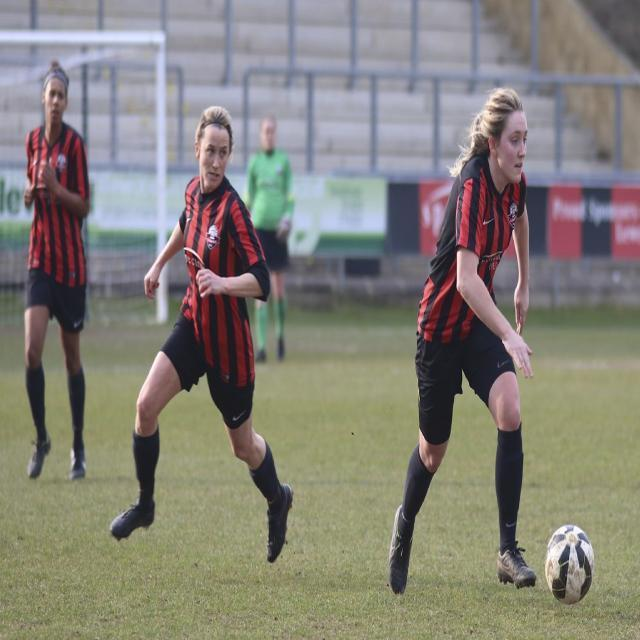football: (541, 513, 594, 608)
